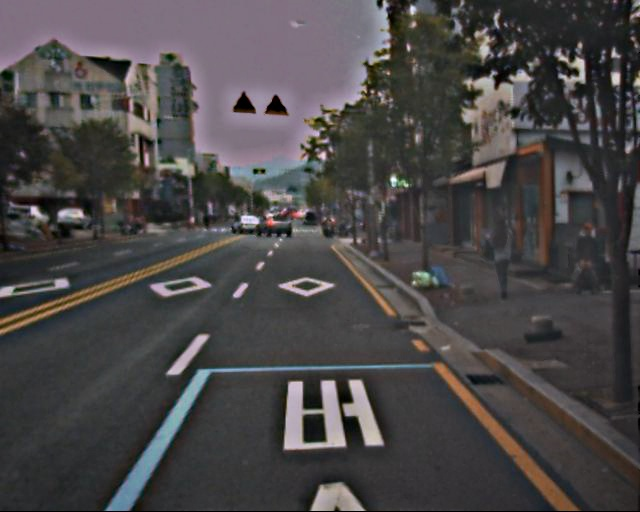person: (482, 212, 521, 300), (569, 225, 599, 293)
